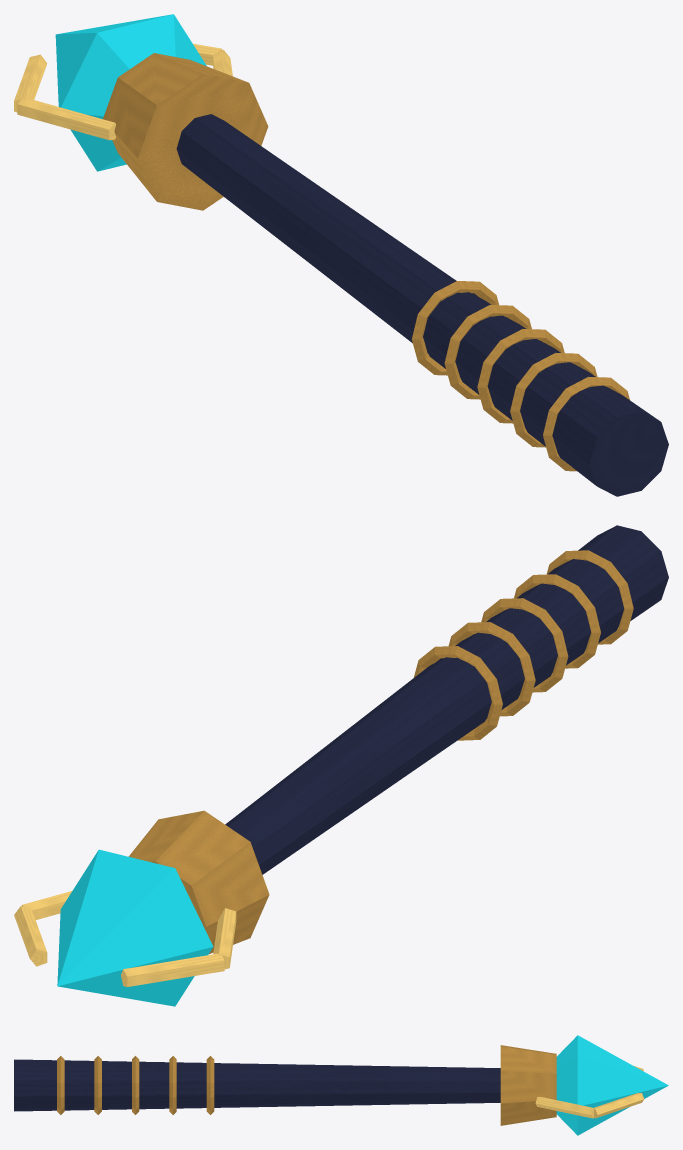
The model's file is wand.glb.
3 views of the same model, one above another, from view 1: azimuth 30°, elevation 25°; view 2: azimuth 150°, elevation 25°; view 3: azimuth 270°, elevation 25° (orthographic). The views are drawn at different scales.
Visible parts, largest first — view 1: wand; view 2: wand; view 3: wand.
Boxes of the visible parts, x1,y1,x2,y2 form: wand: (14,14,668,496); wand: (14,525,668,1006); wand: (14,1035,668,1135).
Size of the model in its own units: 0.0749 by 0.0468 by 0.35.
1 material, 1 textured.
